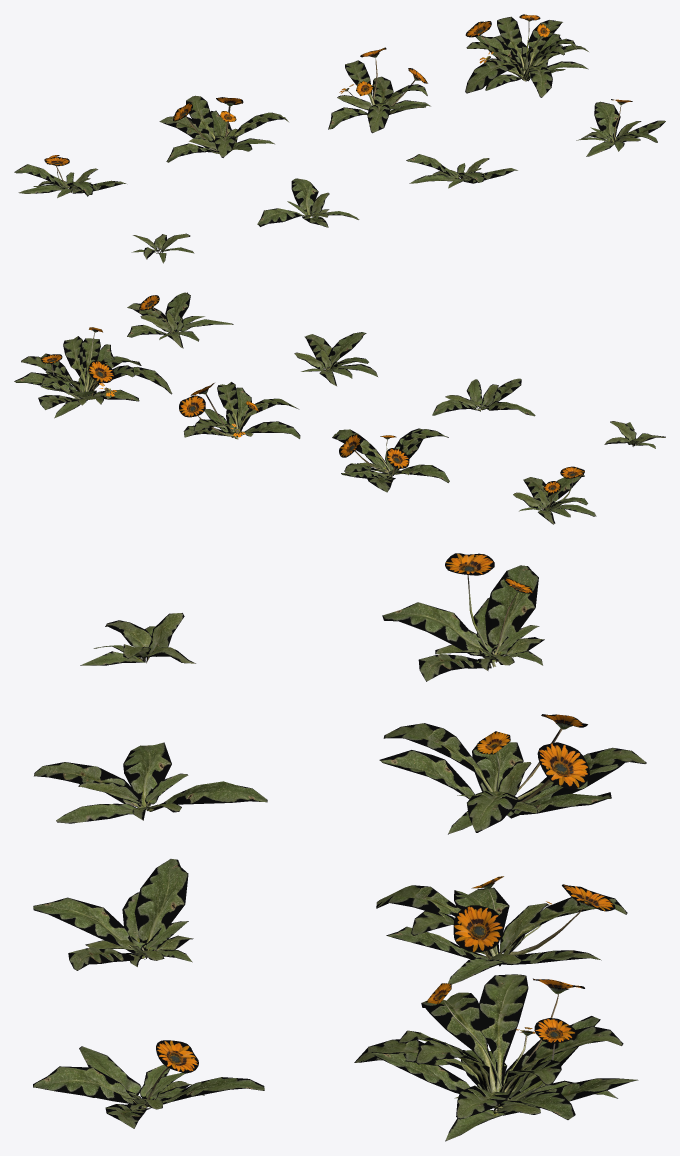
File: ph_flower_gazania.glb
3 renders of one model, top to bottom at view 1: azimuth 30°, elevation 25°; view 2: azimuth 150°, elevation 25°; view 3: azimuth 270°, elevation 25°, orthographic. The views are drawn at different scales.
Size of the model in its own units: 1.48 by 0.1655 by 0.7012.
Materials: 1 (1 with a texture image).
